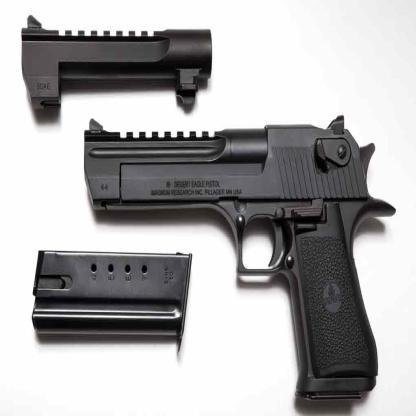Pistol: (80, 116, 398, 415)
